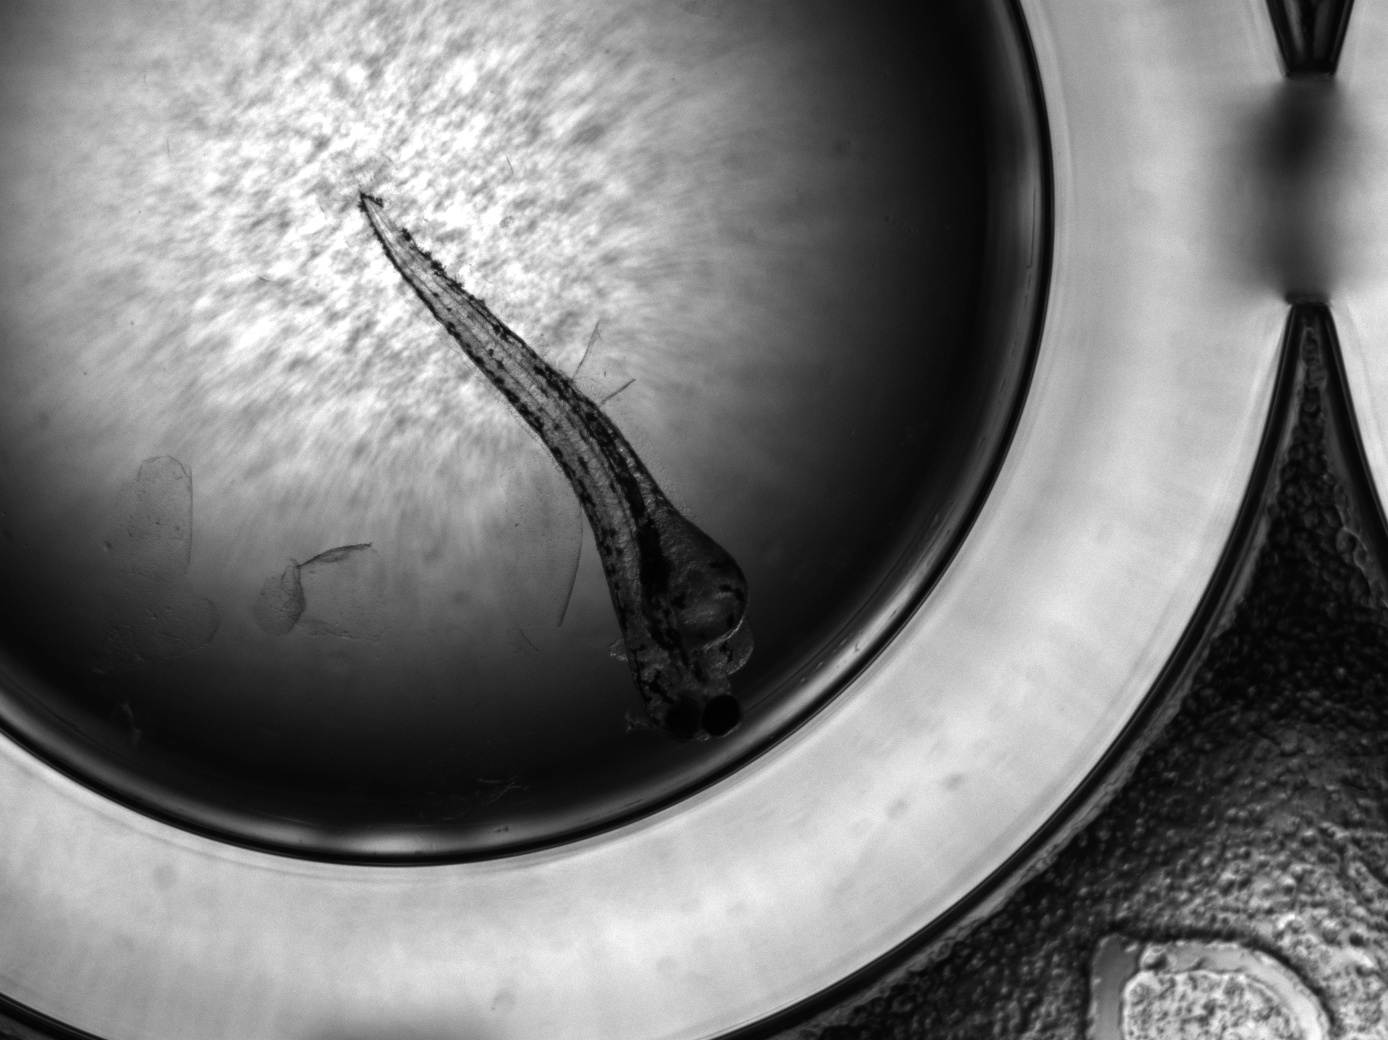embryo: (357, 193, 759, 744)
eye: (703, 694, 743, 738), (665, 697, 703, 740)
yolksac: (626, 484, 758, 679)
